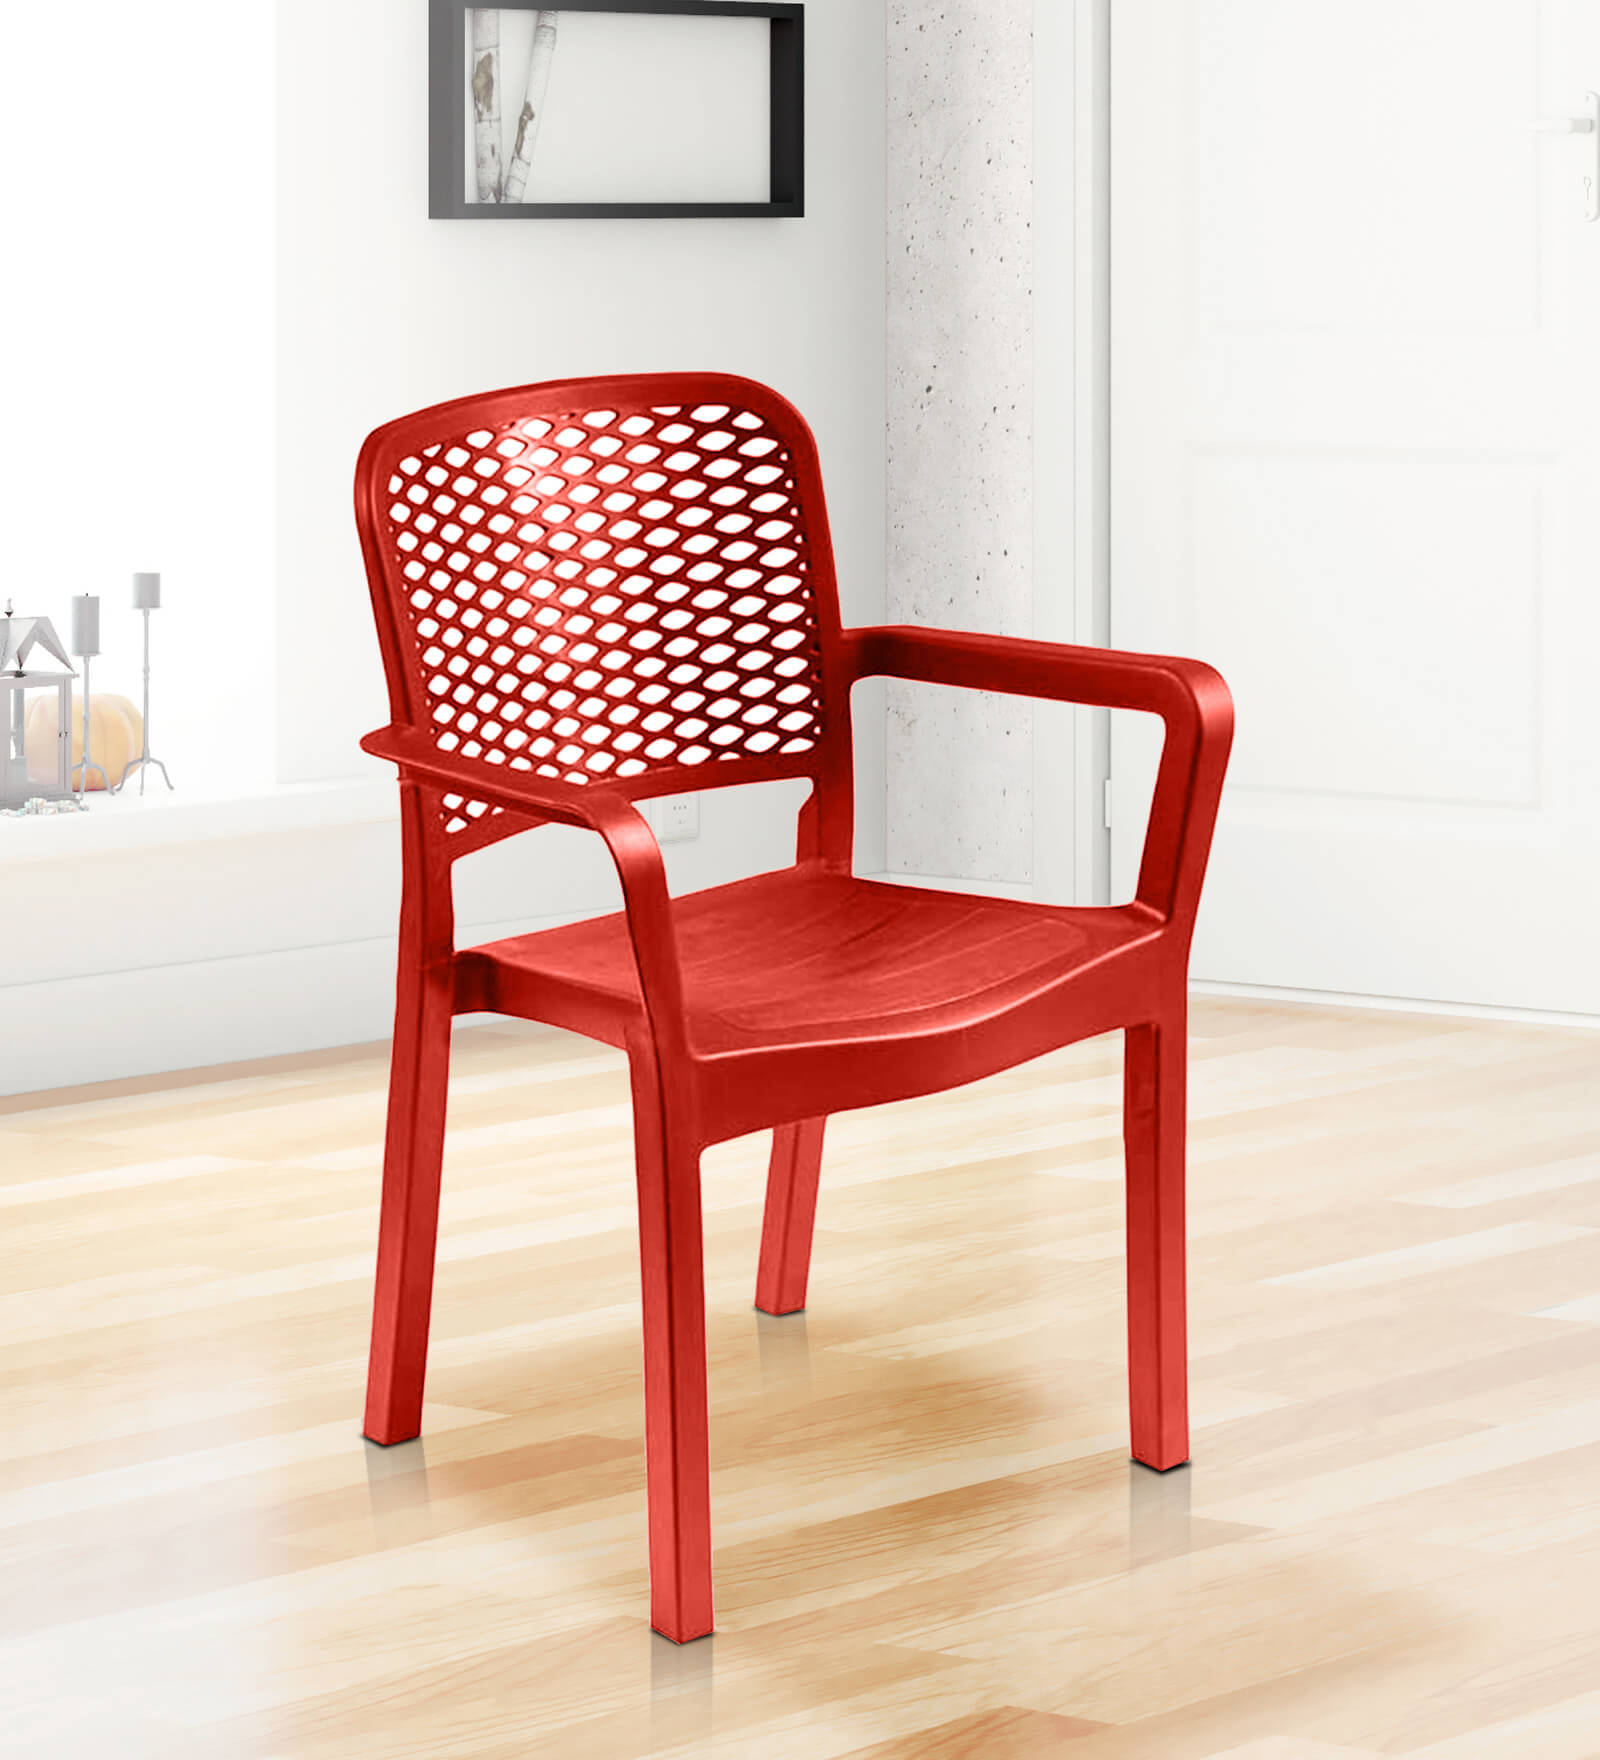Luxury Plastic Chair in Red Colour by Italica Furniture: (342, 360, 1238, 1648)
